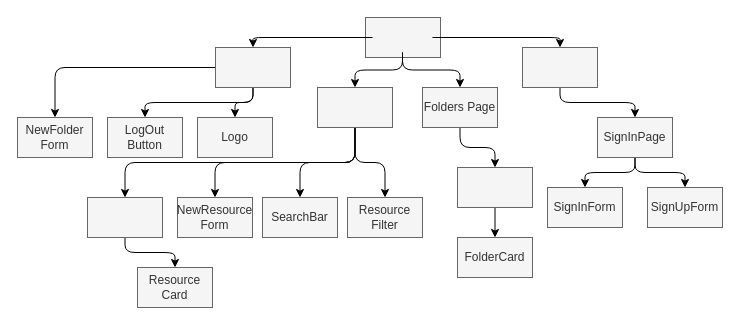
This 740x325 diagram has some shape labels left out. The shapes that lost their labels are listed below. From the top down, each one's box as (x1, y1, x2, y2) in pixels, then its label:
(364, 16, 440, 58): App
(214, 46, 290, 88): NavBar
(522, 46, 598, 88): Landing Page
(316, 86, 392, 128): Resources Page
(456, 166, 532, 208): FoldersList
(86, 196, 162, 238): Resources List
